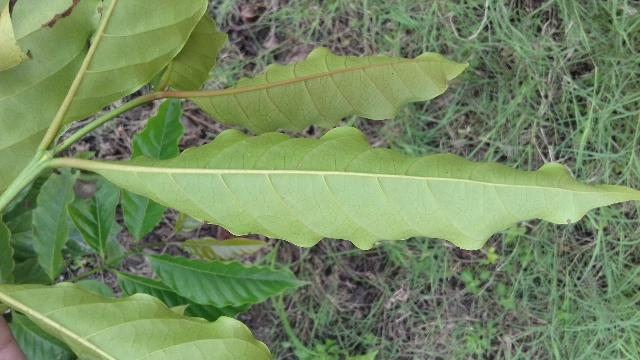healthy: (87, 126, 637, 250)
